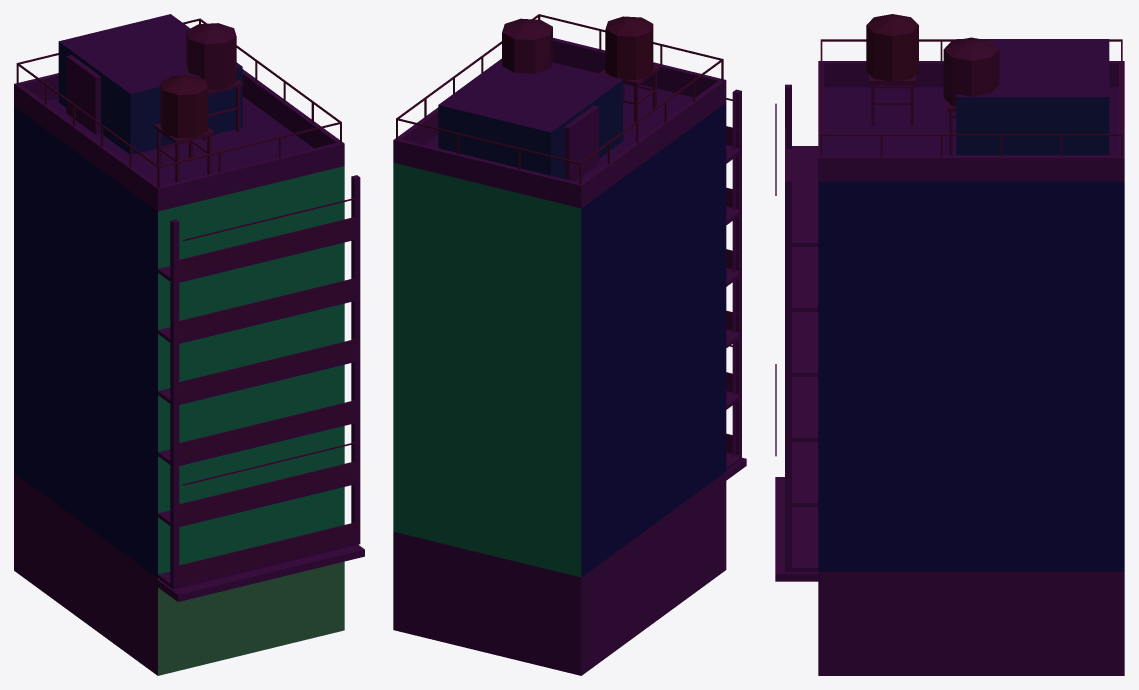
The model's file is walkup_a.glb.
3 renders of one model, left to right at view 1: azimuth 30°, elevation 25°; view 2: azimuth 150°, elevation 25°; view 3: azimuth 270°, elevation 25°, orthographic. The views are drawn at different scales.
Parts seen in each view (by area): view 1: walkup_a; view 2: walkup_a; view 3: walkup_a.
Boxes of the visible parts, <box> form: walkup_a: <box>14,14,364,675</box>; walkup_a: <box>393,14,746,675</box>; walkup_a: <box>775,14,1124,675</box>.
Size of the model in its own units: 9.6 by 27.74 by 14.6.
